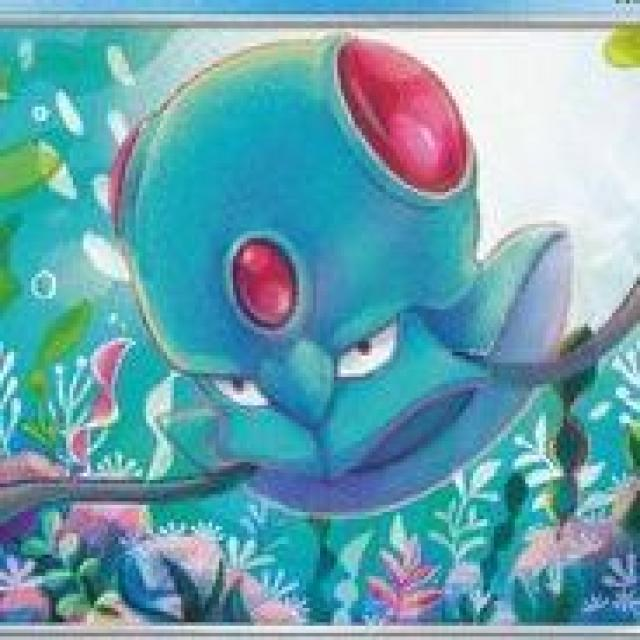Tentacool: (118, 23, 598, 561)
